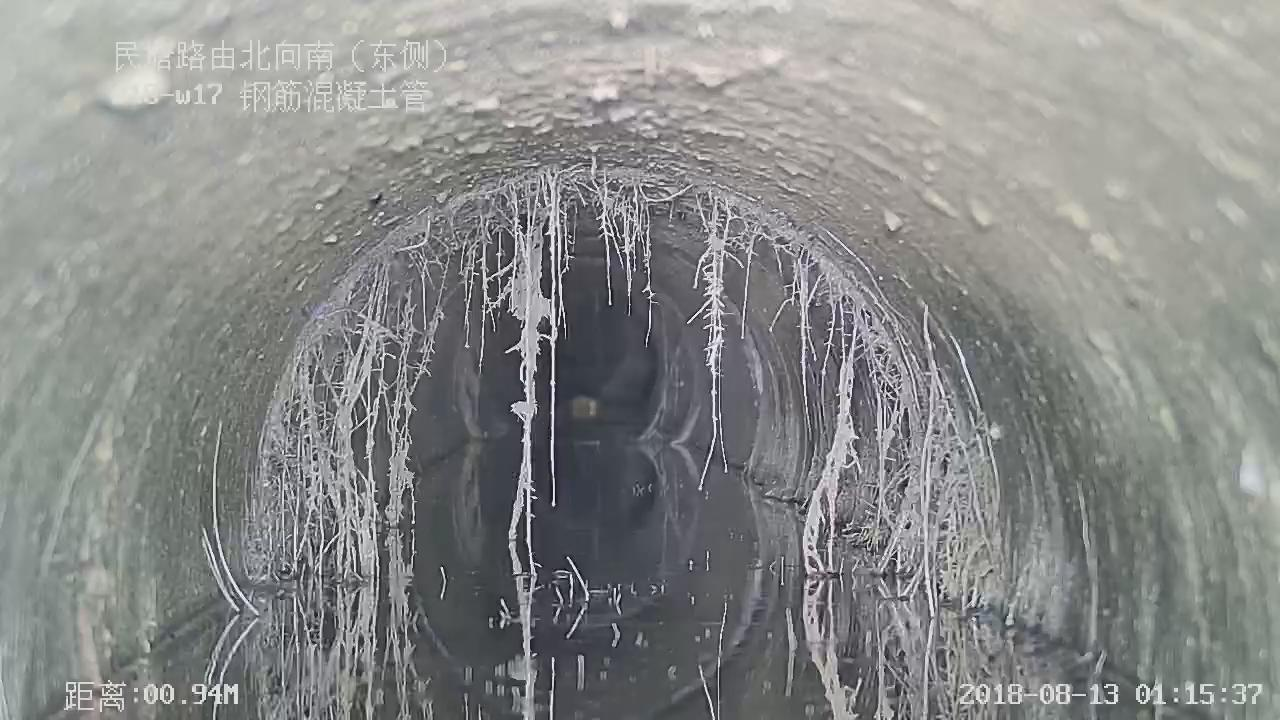SG: (222, 170, 995, 719)
